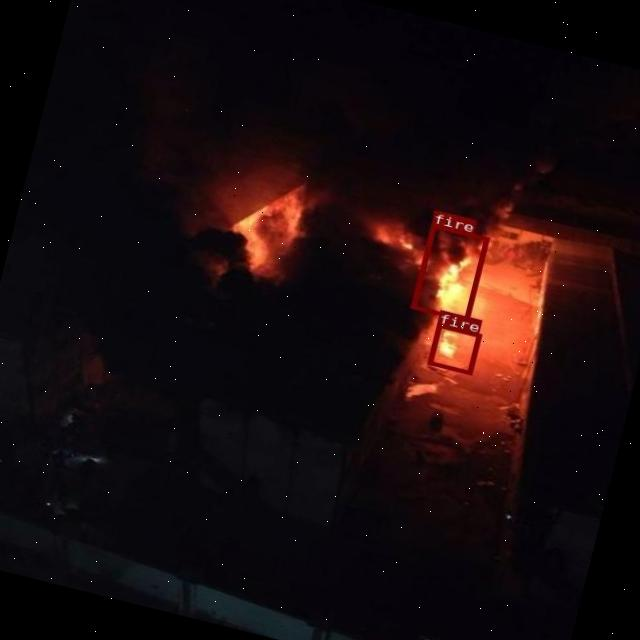fire: (410, 223, 487, 320), (426, 322, 480, 374)
